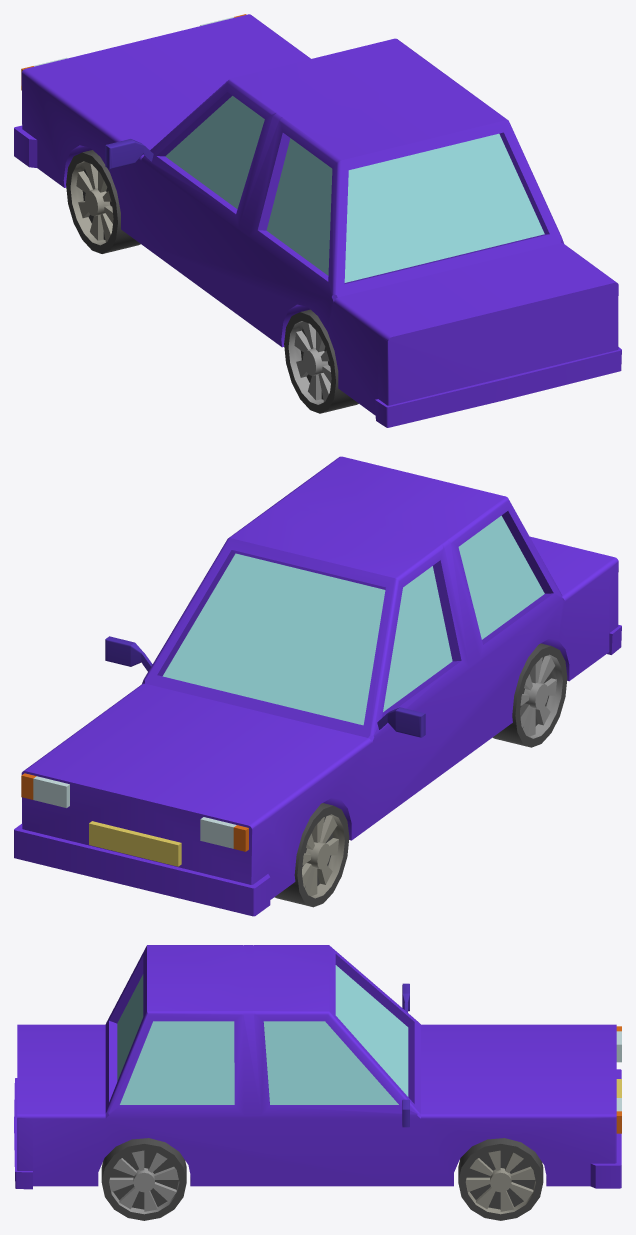
The model's file is CocheV2.fbx.
The picture shows the model from 3 angles, top to bottom: view 1: azimuth 30°, elevation 25°; view 2: azimuth 150°, elevation 25°; view 3: azimuth 270°, elevation 25°; orthographic projection. The views are drawn at different scales.
Visible parts, largest first — view 1: Cube, Cylinder, Cylinder.002, Cube.002; view 2: Cube, Cylinder.002, Cylinder, Cube.001, Cube.003, Cube.002; view 3: Cube, Cylinder.002, Cylinder, Cube.002, Cube.001.
Part boxes in pixels (box(x1,y1,x2,y2)): Cube: box(14, 14, 621, 427); Cylinder: box(66, 150, 140, 253); Cylinder.002: box(284, 309, 358, 413); Cube.002: box(105, 139, 153, 169); Cube: box(14, 456, 621, 916); Cylinder.002: box(492, 643, 567, 747); Cylinder: box(274, 803, 349, 907); Cube.001: box(21, 773, 248, 851); Cube.003: box(89, 821, 181, 866); Cube.002: box(105, 636, 425, 737); Cube: box(14, 945, 621, 1189); Cylinder.002: box(101, 1138, 186, 1220); Cylinder: box(458, 1138, 543, 1220); Cube.002: box(402, 983, 409, 1127); Cube.001: box(616, 1026, 621, 1133).
Size of the model in its own units: 274 by 199 by 558.
